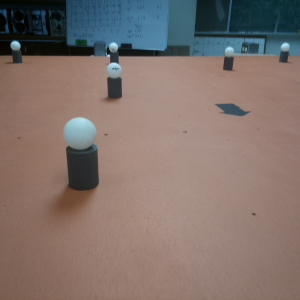obstacle: (64, 116, 101, 190), (107, 61, 124, 98), (222, 46, 234, 69), (11, 41, 22, 63), (108, 42, 118, 62), (279, 42, 289, 62)
start: (213, 100, 251, 118)
